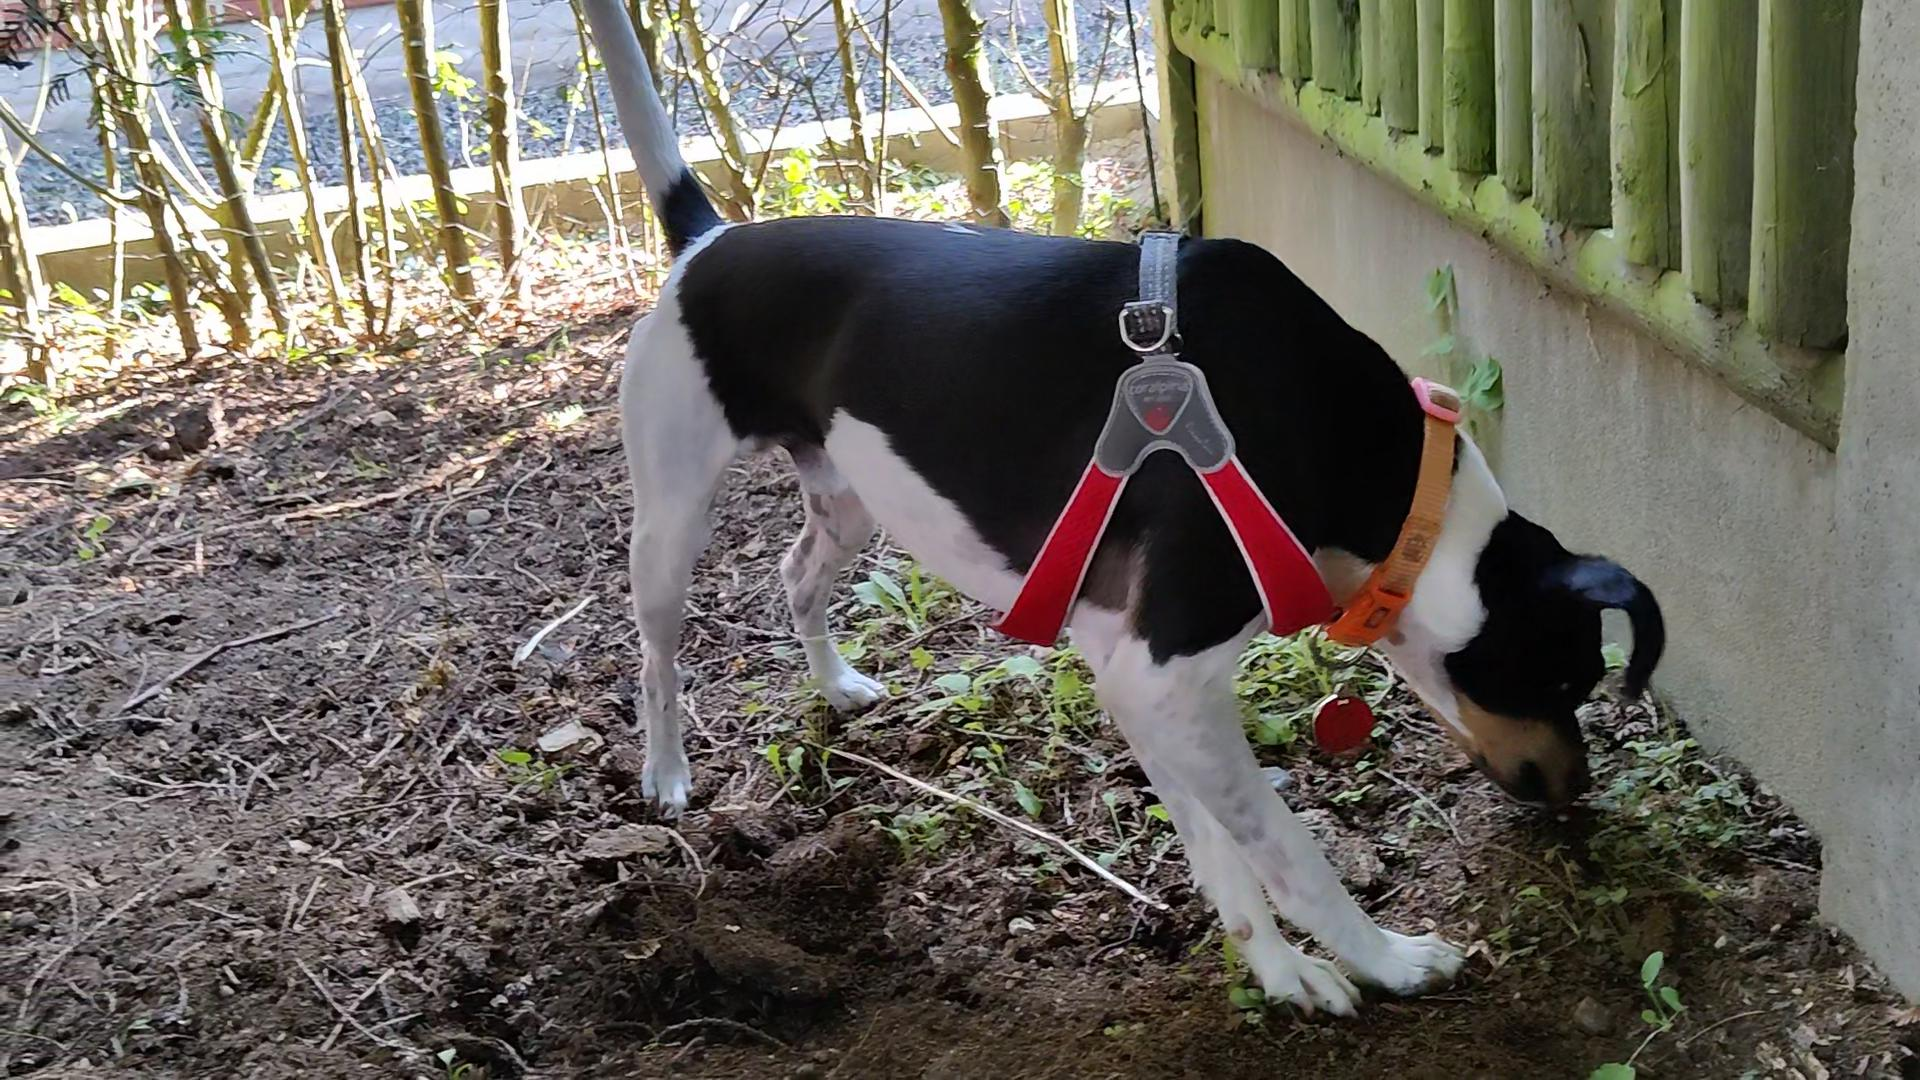Dog: (554, 0, 1685, 1029)
